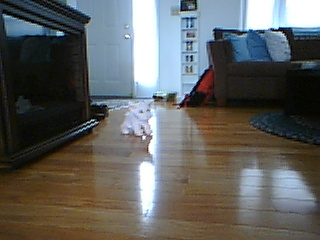piggy: (120, 99, 156, 140)
